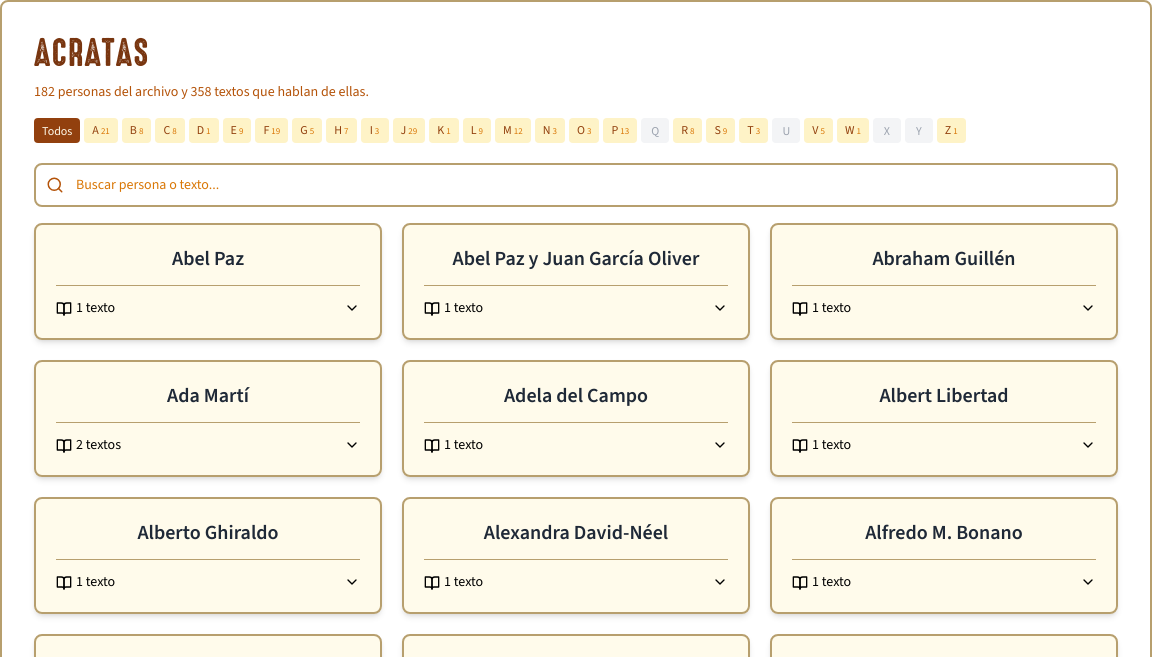
Test: AcratasView › despliega los textos de una persona al hacer clic
This screenshot has width=1152, height=657.
Type "Emma Goldman" into the field labelled "Buscar persona o texto..." at {"x": 576, "y": 185}, box [34, 163, 1118, 207]
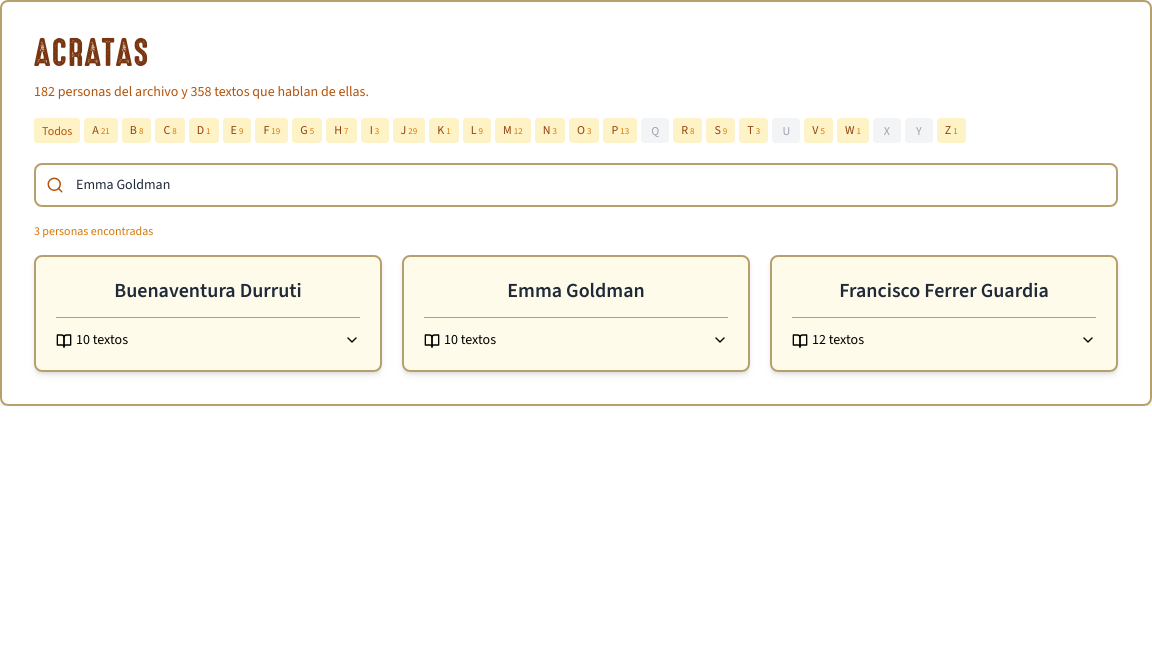
Click the heading "Emma Goldman" at {"x": 576, "y": 290}, box [507, 277, 645, 304]
(page scrolled)
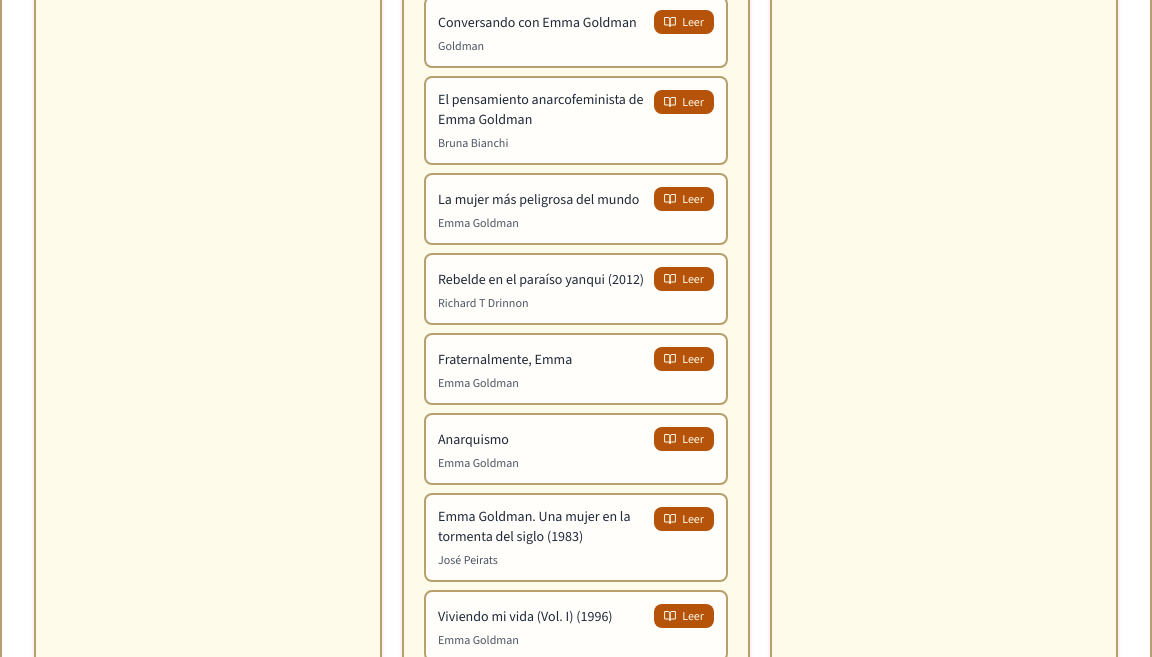
Result: the button "Anarquismo" is shown at [438, 430, 509, 450]
Result: the button "Fraternalmente, Emma" is shown at [438, 350, 572, 370]
